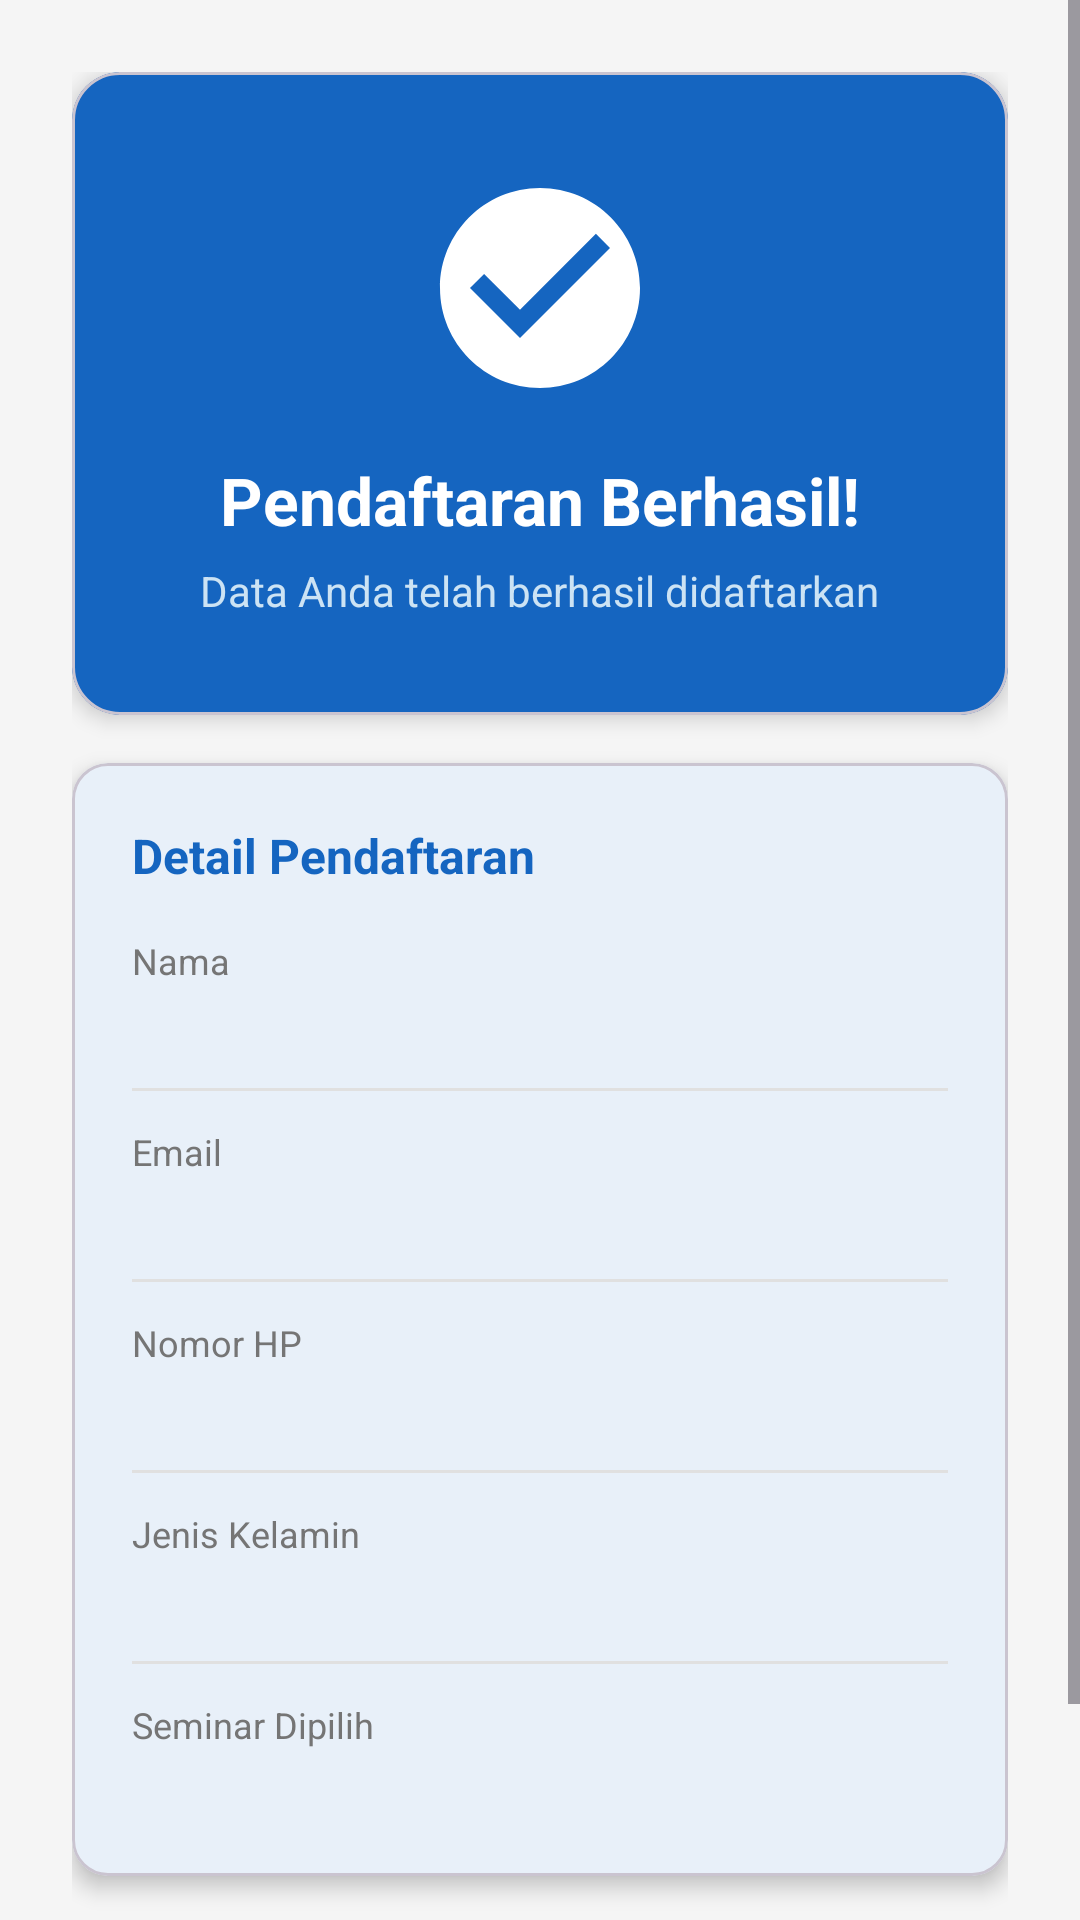

Where icons sit on this 1080*1920 app screen, as (x1, y1, x2, y2):
Success icon: (440, 188, 640, 388)
